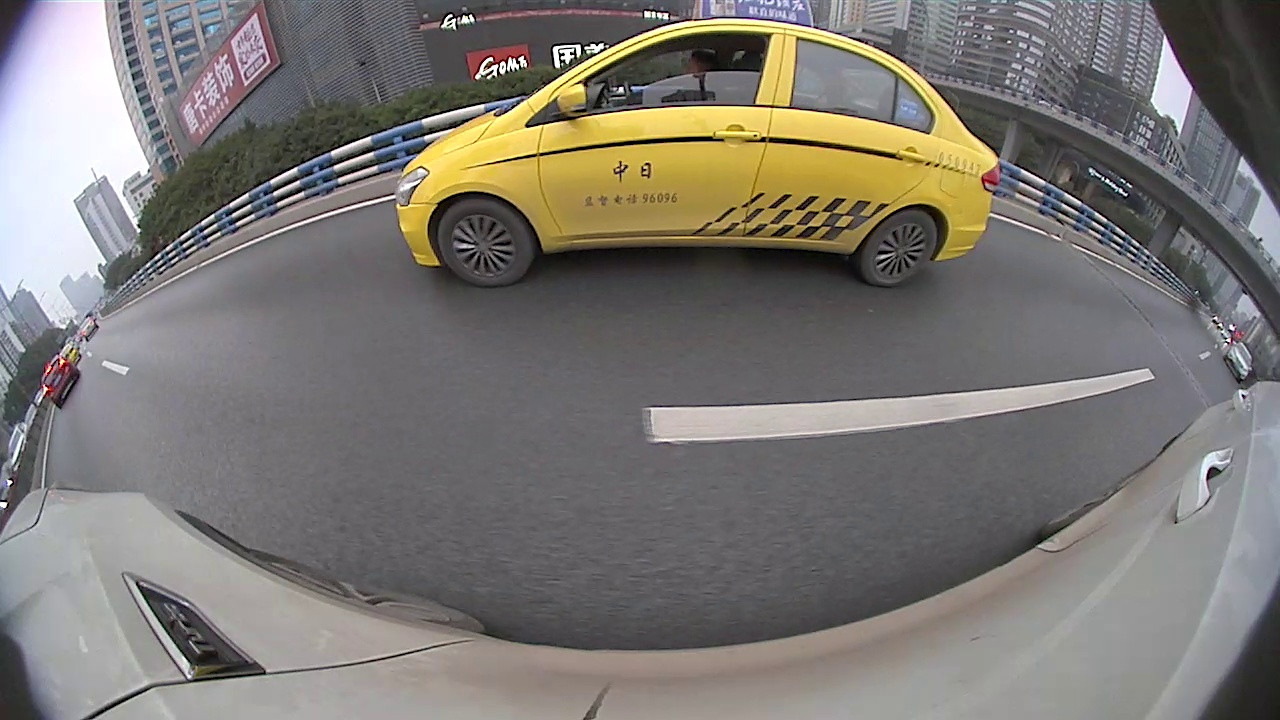bus: (668, 147, 694, 179)
car: (102, 132, 494, 378), (679, 108, 1007, 291), (955, 160, 1150, 313), (1122, 234, 1242, 374), (459, 152, 567, 215), (594, 142, 680, 211), (553, 157, 592, 196)
front: (466, 197, 494, 248), (679, 184, 697, 223), (560, 180, 569, 201)
rear: (254, 255, 341, 359), (766, 199, 815, 279), (1007, 247, 1060, 306), (1159, 312, 1199, 360), (529, 183, 543, 215)
